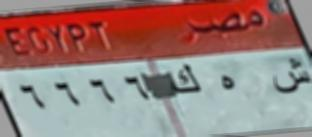6: (85, 73, 116, 108), (16, 79, 47, 113), (53, 77, 81, 113), (124, 73, 149, 104)
haa: (215, 72, 238, 97)
kaaf: (165, 62, 201, 101)
sheen: (271, 59, 312, 100)
